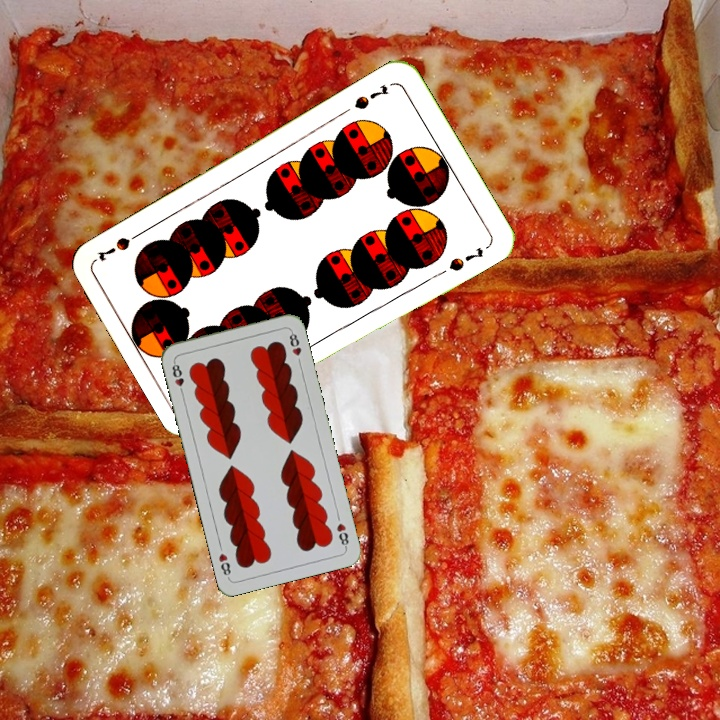H8: (168, 358, 187, 398), (332, 519, 351, 551)
S7: (350, 80, 391, 112)
